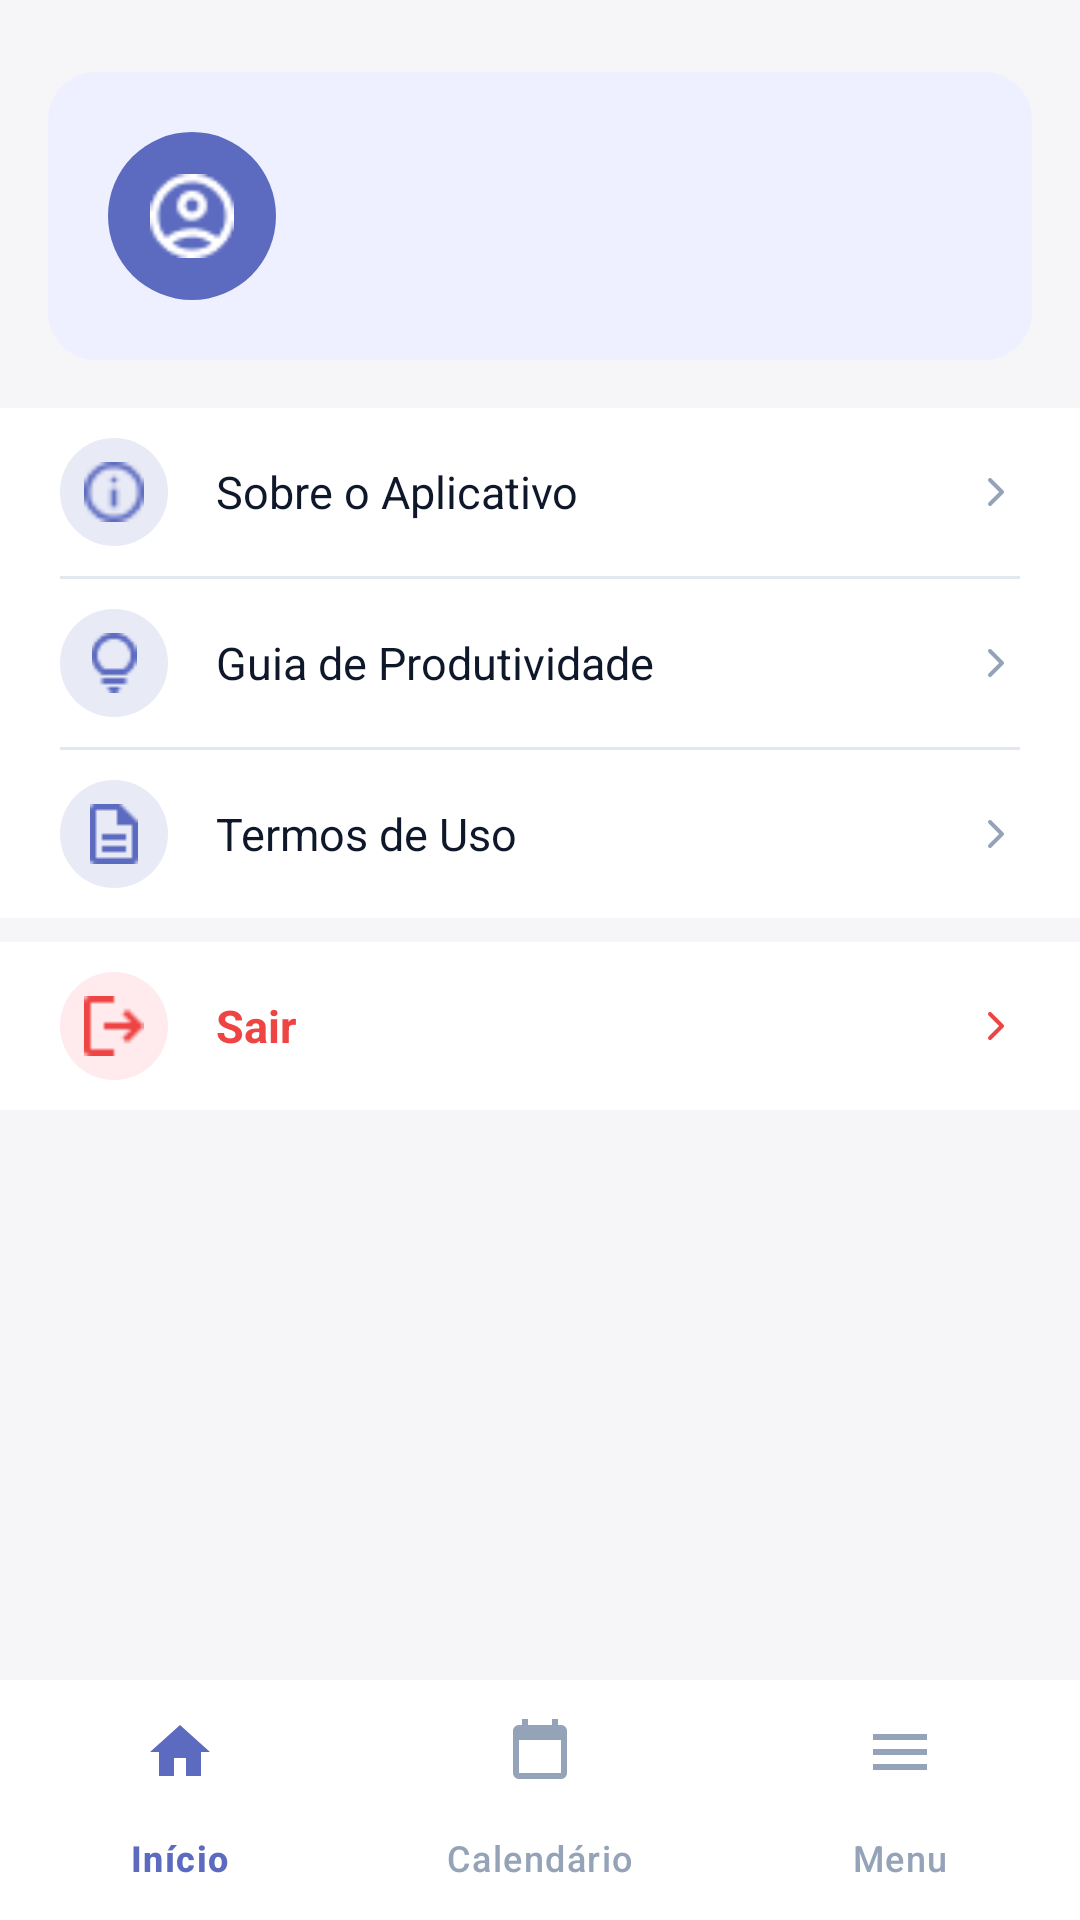

Named icons in this screenshot (1080x1920) and their bounding boxes, (x1,y1,x2,y2):
chevron right: (988,478,1004,506), (988,649,1004,677), (988,820,1004,848), (988,1012,1004,1040)
info: (84,462,144,522)
profile menu: (108,132,276,300)
